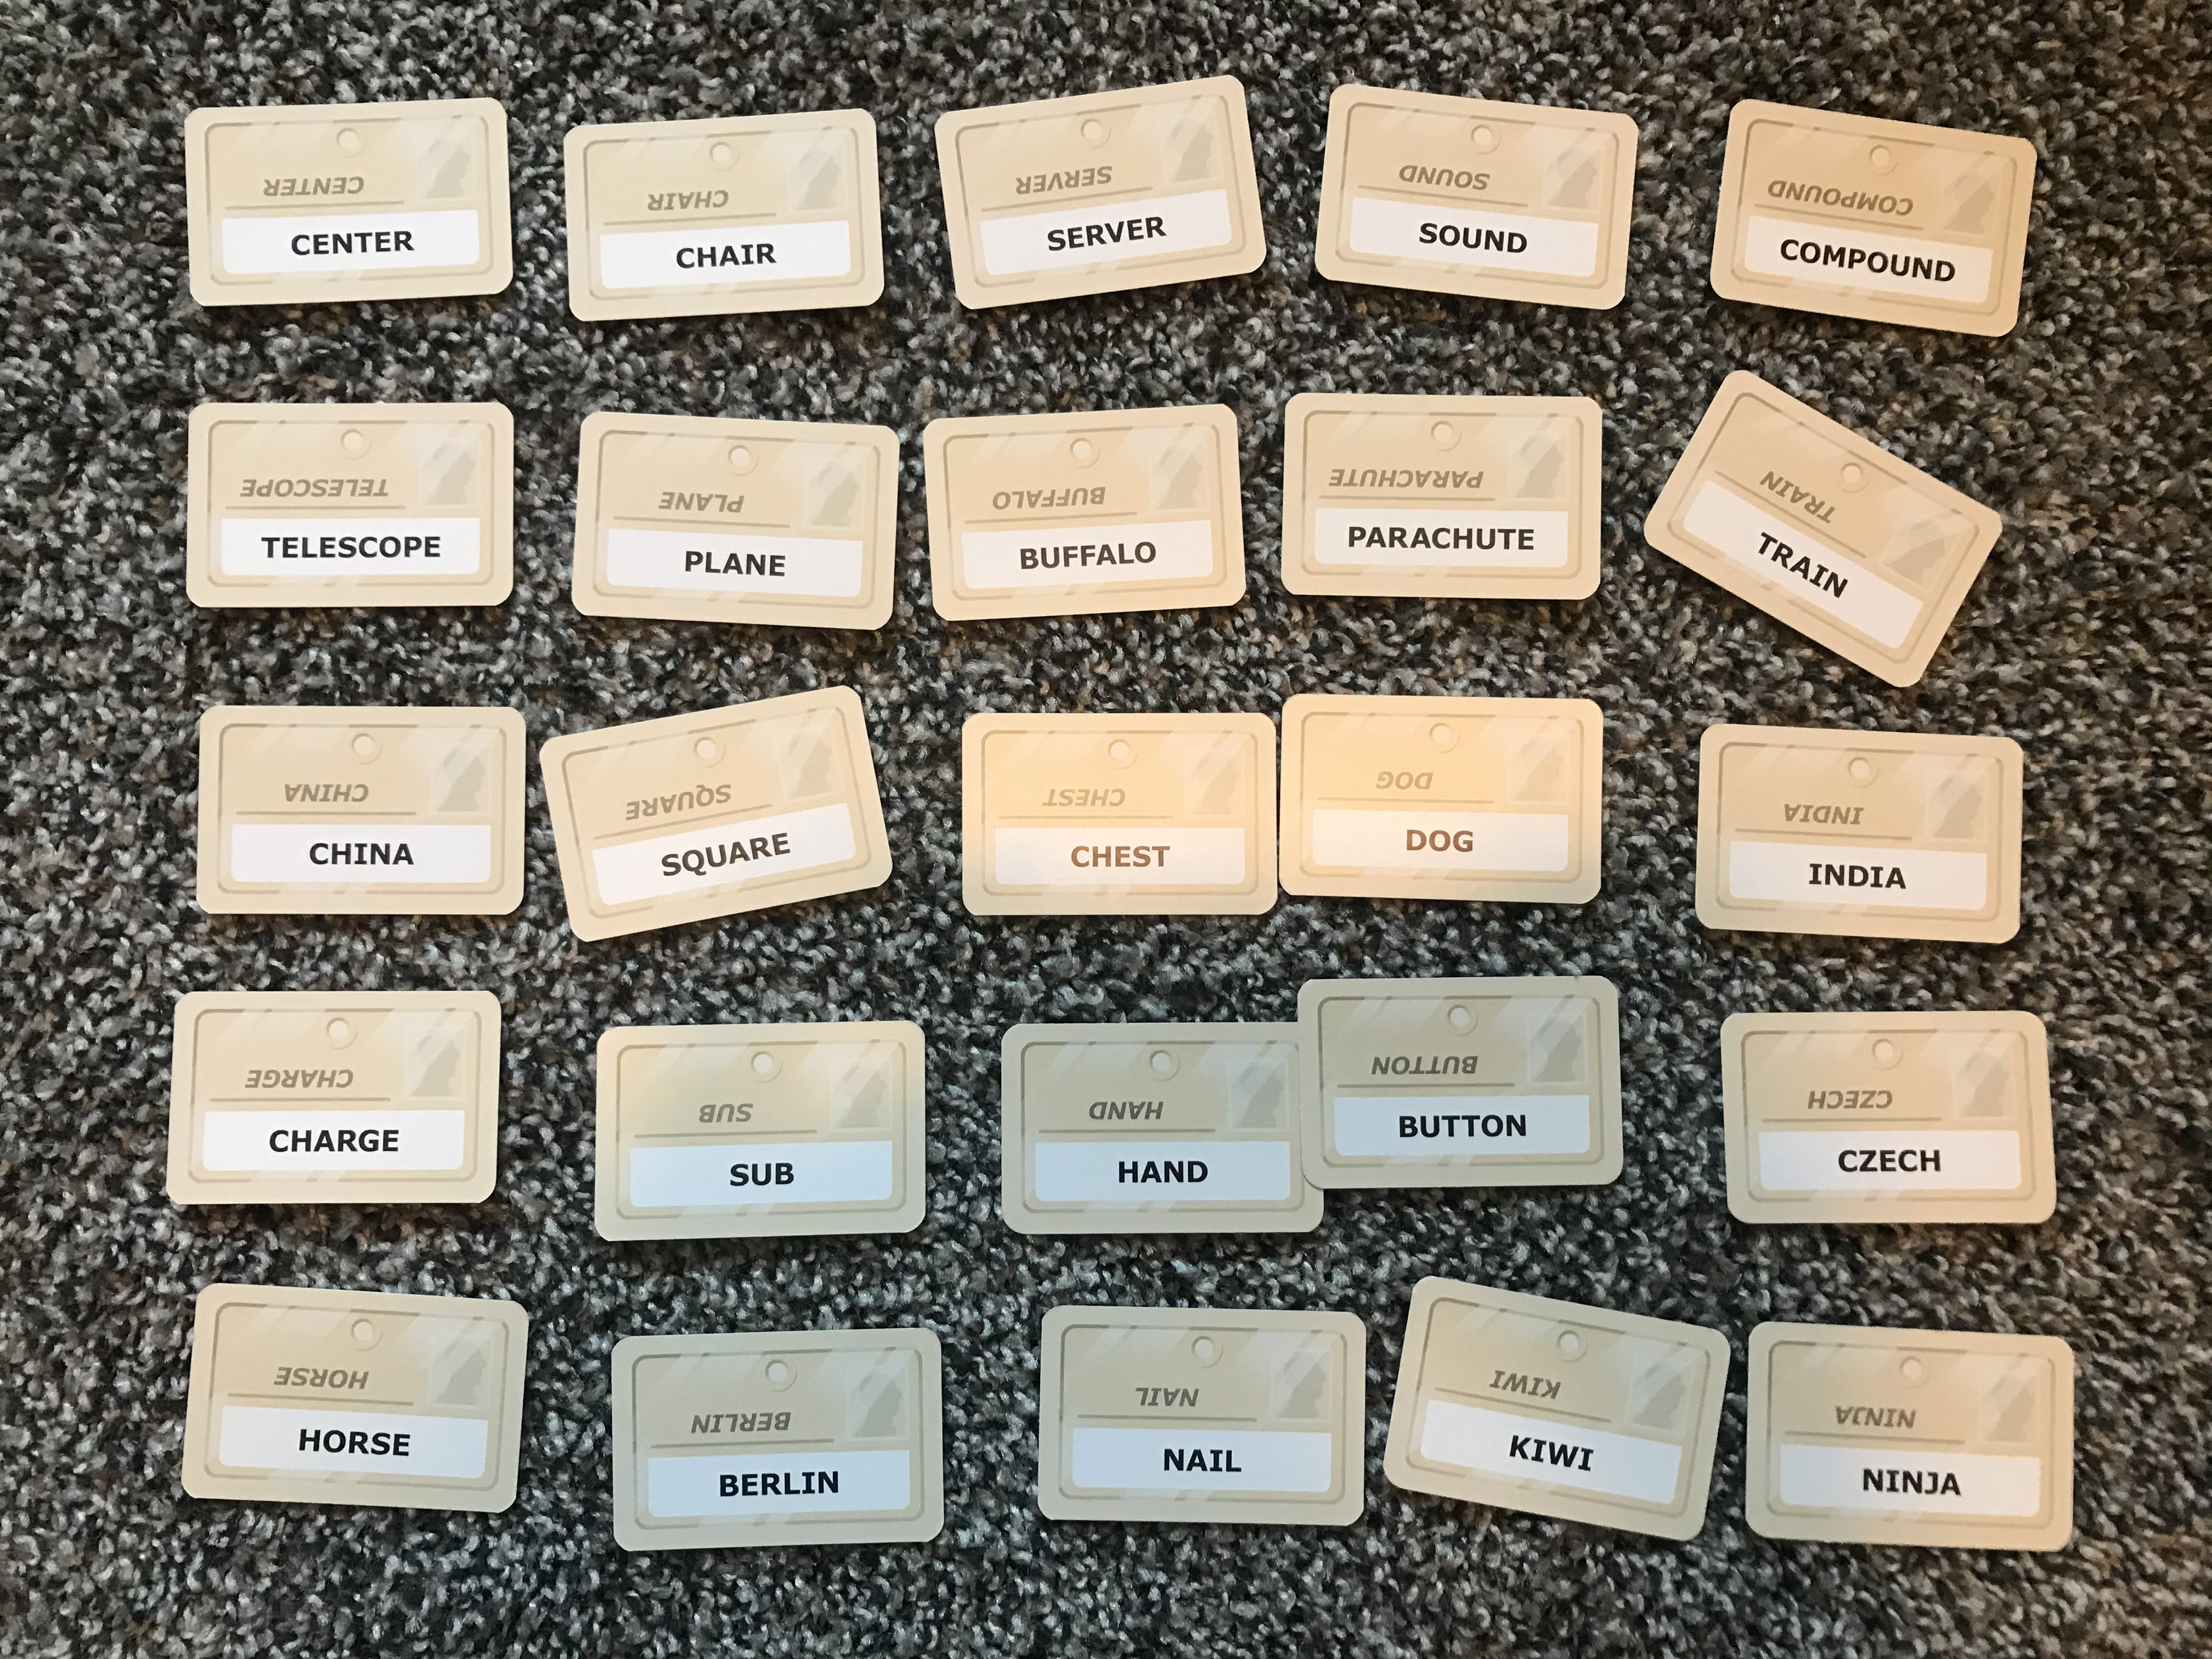A: (728, 831, 752, 875), (1885, 861, 1912, 897), (1094, 538, 1118, 577), (1407, 523, 1433, 556), (1184, 1446, 1209, 1481), (719, 544, 740, 584), (1141, 1154, 1162, 1194), (1364, 519, 1386, 556), (392, 838, 416, 871), (314, 1124, 336, 1159), (1792, 547, 1811, 587), (721, 239, 740, 274)
